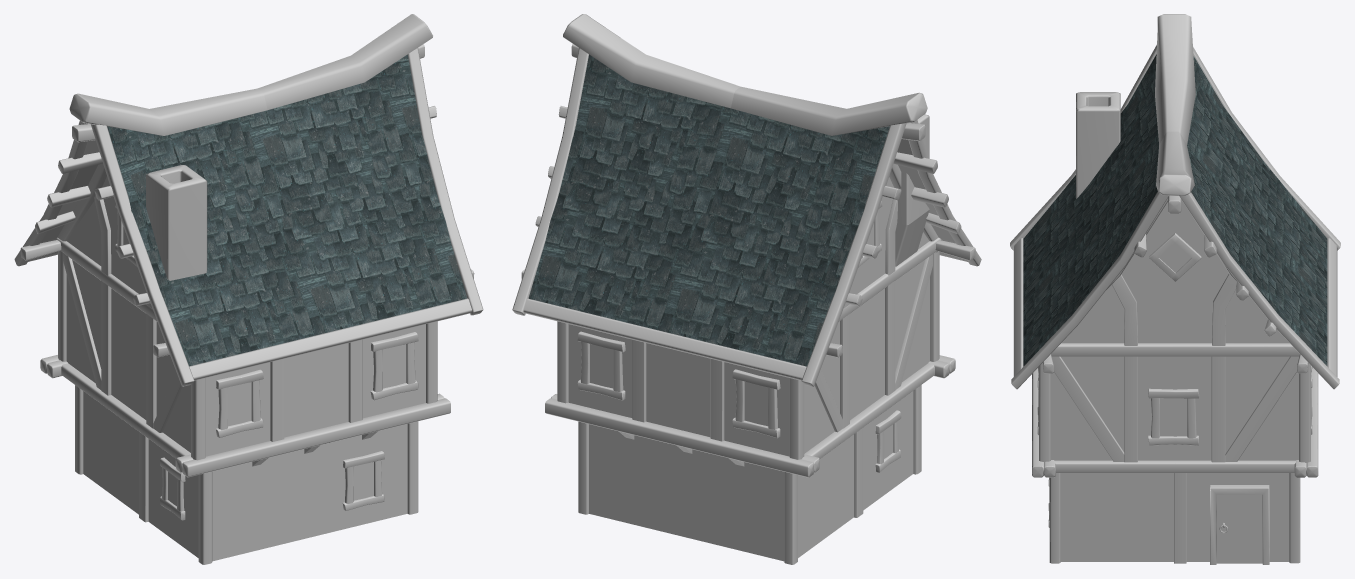
File: house27.fbx
The picture shows the model from 3 angles, left to right: view 1: azimuth 30°, elevation 25°; view 2: azimuth 150°, elevation 25°; view 3: azimuth 270°, elevation 25°; orthographic projection. The views are drawn at different scales.
Parts seen in each view (by area): view 1: house27; view 2: house27; view 3: house27.
Part boxes in pixels (x1,y1,x2,y2): house27: [14, 14, 483, 564]; house27: [512, 14, 981, 564]; house27: [1010, 14, 1340, 564].
Bounding box in the file's own units: 1070 × 1258 × 896.
